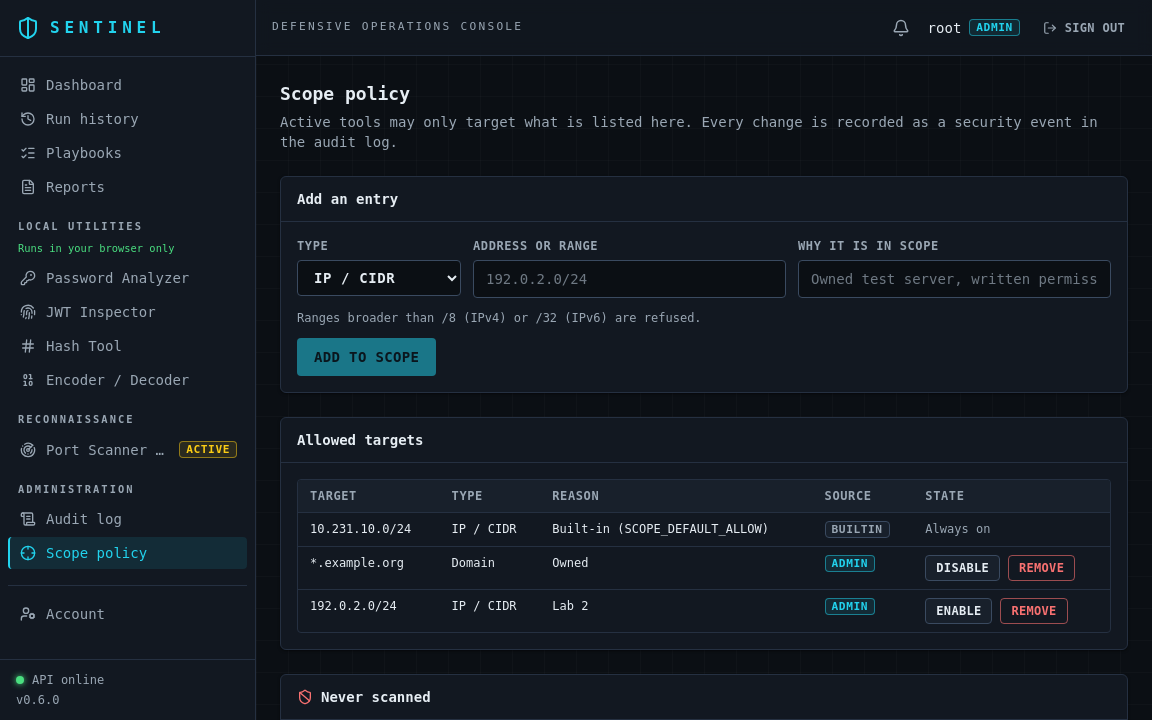
it: admin scope page › shows server validation errors on the field
This screenshot has width=1152, height=720.
Type "10.231.0.0/16" into the field labelled "Address or range".
click(630, 279); type("10.231.0.0/16")  # box [473,260,786,298]
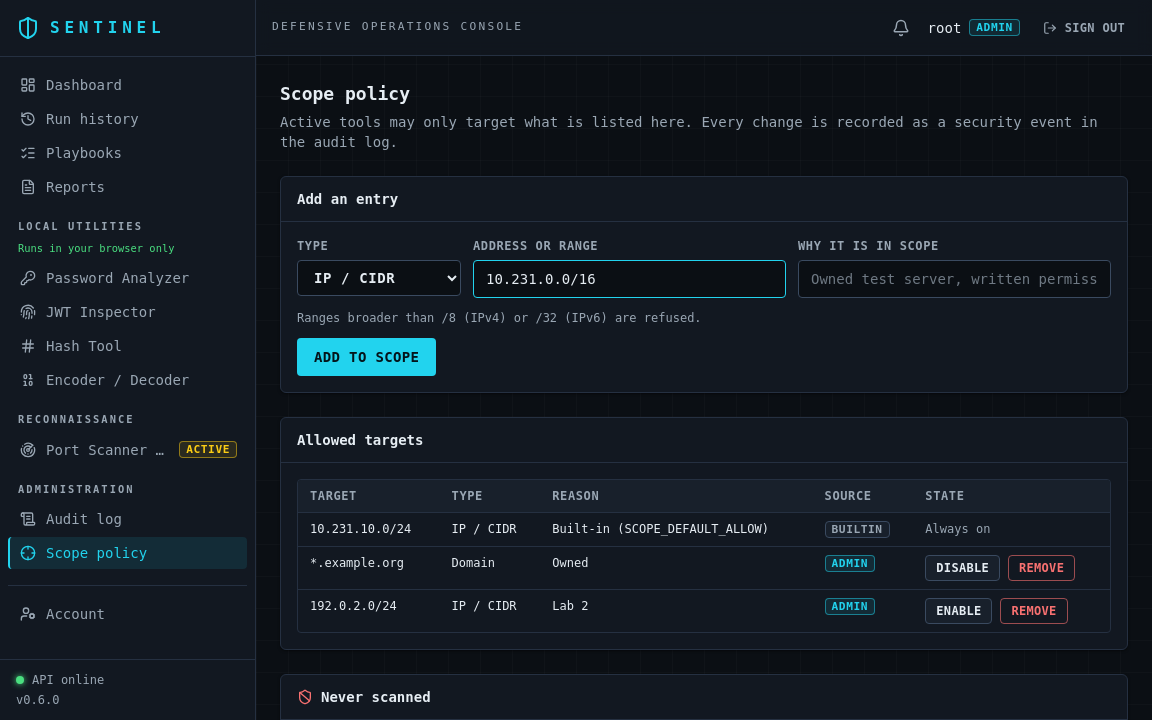
Click the button "Add to scope".
click(367, 357)  # box [297,338,436,376]
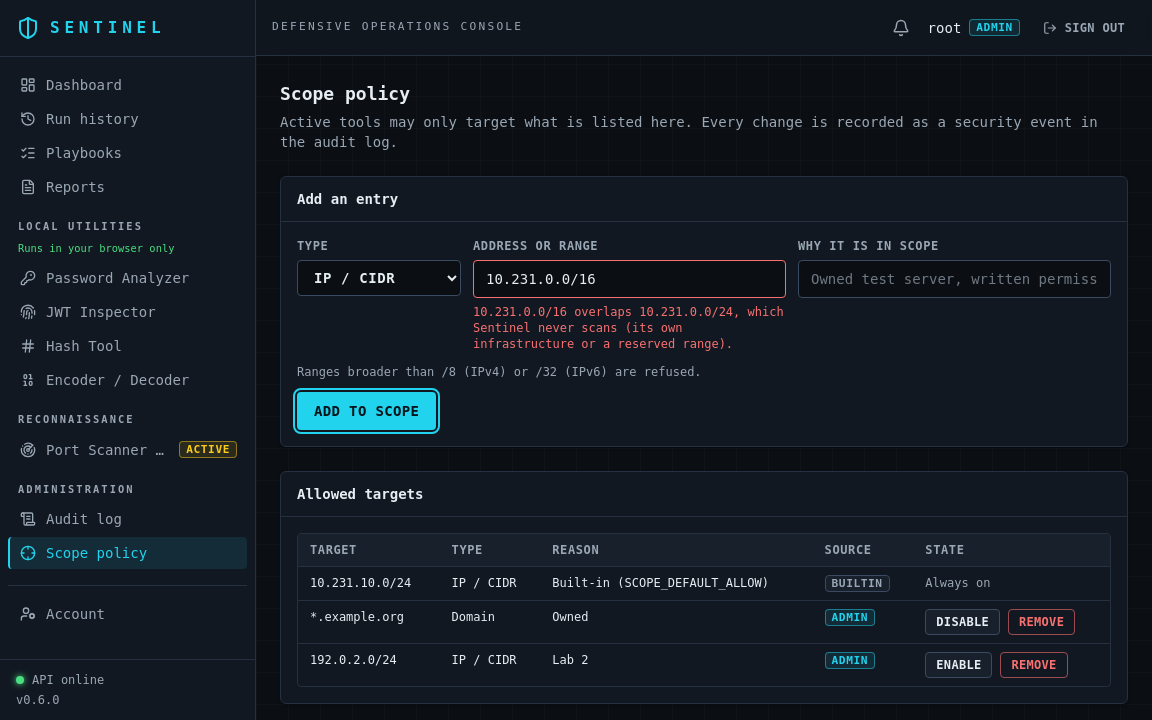
Expected: the text "overlaps 10.231.0.0/24" is shown, [473,305,784,351]
